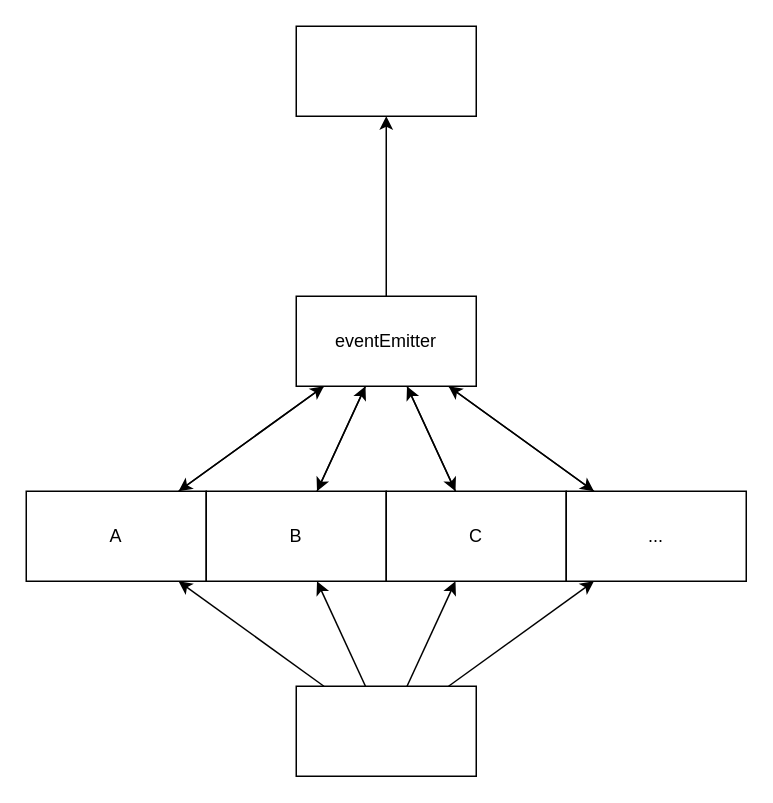
This 773x803 diagram has some shape labels left out. Each missing label, with the centre of its shape:
"core" goes at point (385, 70).
"Editor" goes at point (385, 730).
